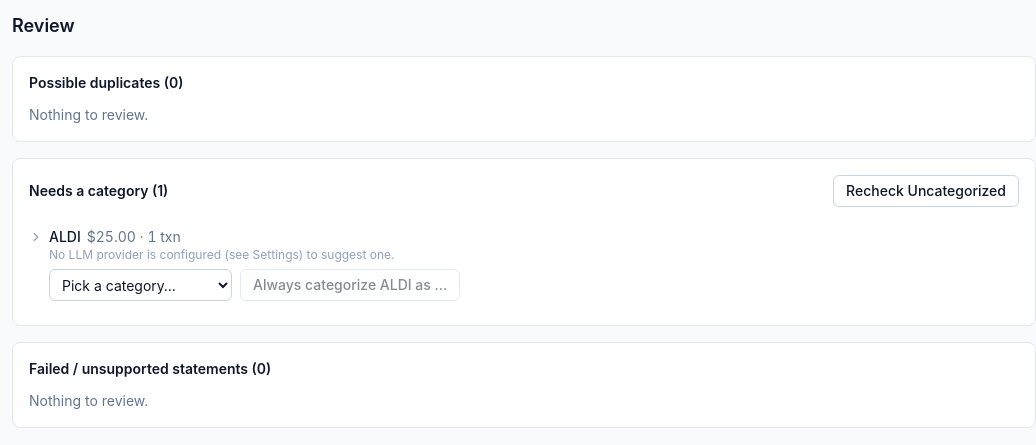
Scenario: ReviewRoute › Recheck Uncategorized posts to the backfill endpoint and refetches
Expected: the heading "Needs a category (1)" is shown, [29,181,168,201]
Click the button "Recheck Uncategorized" at (926, 191), box [833,175,1019,207]
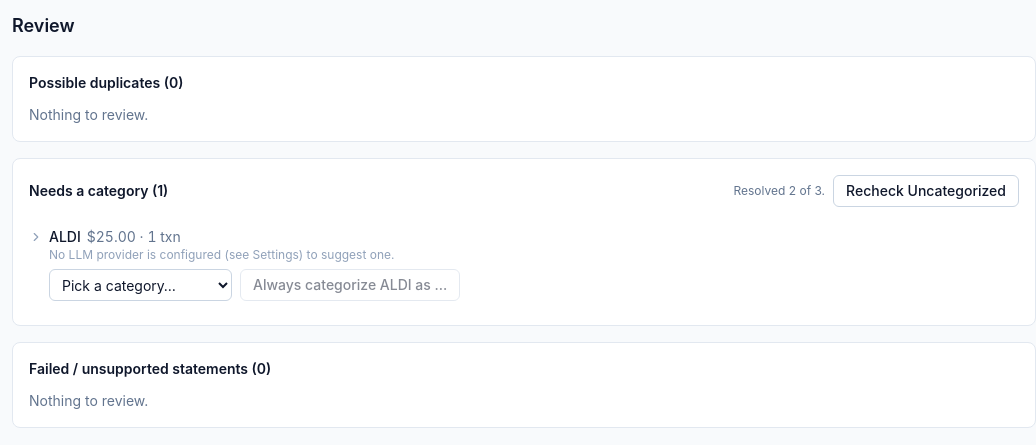
Expected: the text "Resolved 2 of 3." is shown, [734,183,825,199]
